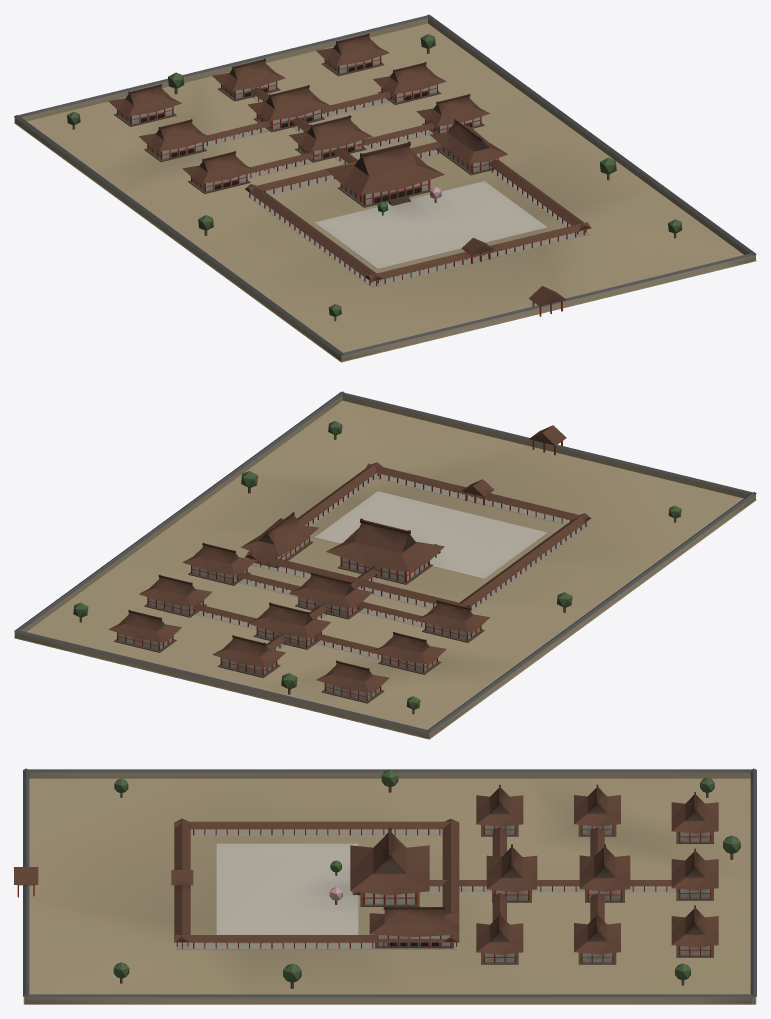
Rendered from dairi.glb.
The picture shows the model from 3 angles, top to bottom: view 1: azimuth 30°, elevation 25°; view 2: azimuth 150°, elevation 25°; view 3: azimuth 270°, elevation 25°; orthographic projection. The views are drawn at different scales.
Visible parts, largest first — view 1: p0_grounds, p1_halls, p2_roofs; view 2: p0_grounds, p1_halls, p2_roofs; view 3: p0_grounds, p1_halls, p2_roofs.
Part boxes in pixels (bbox=[...]): p0_grounds: bbox=[14, 14, 756, 362]; p1_halls: bbox=[67, 34, 682, 321]; p2_roofs: bbox=[108, 33, 507, 195]; p0_grounds: bbox=[14, 391, 756, 739]; p1_halls: bbox=[73, 421, 681, 714]; p2_roofs: bbox=[108, 512, 489, 692]; p0_grounds: bbox=[23, 768, 756, 1004]; p1_halls: bbox=[14, 769, 740, 988]; p2_roofs: bbox=[350, 784, 718, 954].
Size of the model in its own units: 221 by 22.55 by 304.
